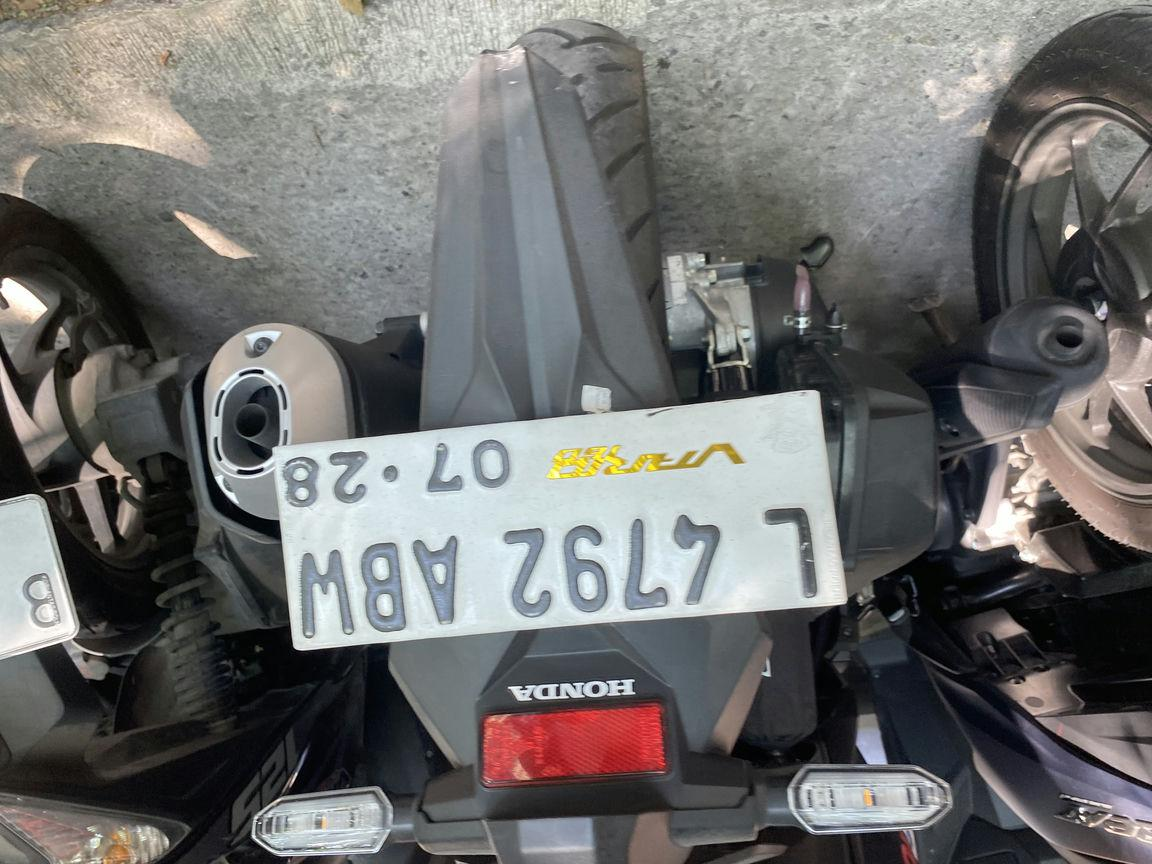plat: (306, 214, 880, 475)
